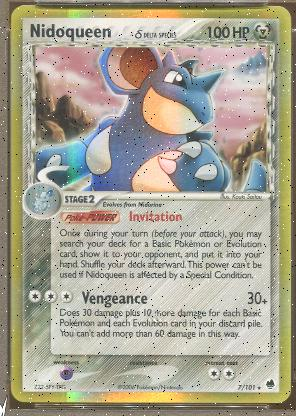Card: (9, 3, 291, 407)
